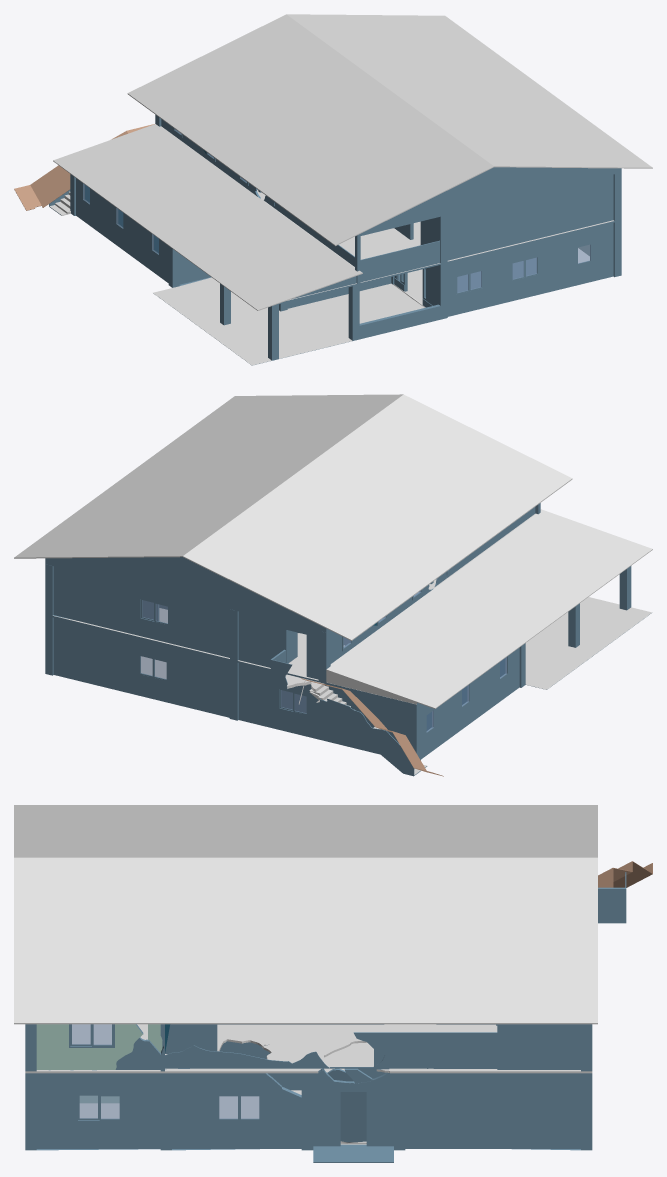
The model's file is Rumah hancur.fbx.
3 views of the same model, one above another, from view 1: azimuth 30°, elevation 25°; view 2: azimuth 150°, elevation 25°; view 3: azimuth 270°, elevation 25° (orthographic). The views are drawn at different scales.
Parts seen in each view (by area): view 1: Atap Utama, Lantai 2 hancur, Lantai 1 Hancur; view 2: Atap Utama, Lantai 2 hancur, Lantai 1 Hancur; view 3: Atap Utama, Lantai 1 Hancur, Lantai 2 hancur.
Boxes of the visible parts, x1,y1,x2,y2 form: Atap Utama: (127, 14, 652, 245); Lantai 2 hancur: (14, 115, 621, 310); Lantai 1 Hancur: (70, 174, 621, 365); Atap Utama: (14, 394, 572, 640); Lantai 2 hancur: (45, 503, 652, 776); Lantai 1 Hancur: (45, 566, 652, 760); Atap Utama: (14, 805, 597, 1024); Lantai 1 Hancur: (25, 1041, 592, 1162); Lantai 2 hancur: (25, 861, 652, 1073).
Size of the model in its own units: 2356 by 789 by 2253.
